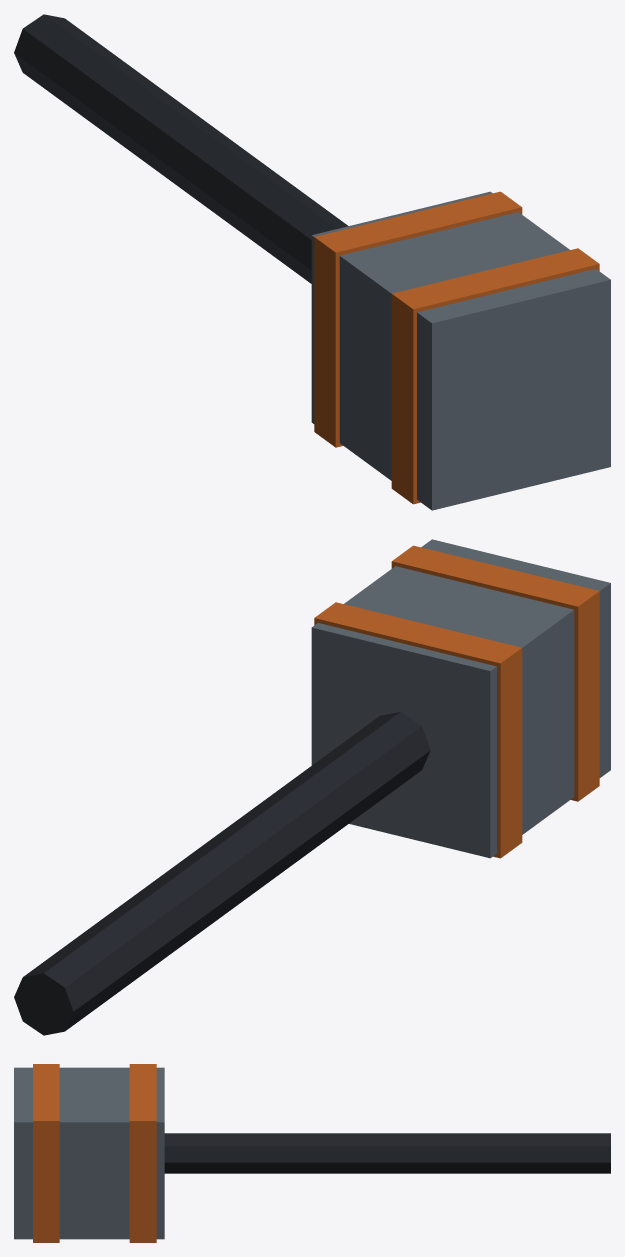
The model's file is vibro-mace.glb.
3 views of the same model, one above another, from view 1: azimuth 30°, elevation 25°; view 2: azimuth 150°, elevation 25°; view 3: azimuth 270°, elevation 25° (orthographic). The views are drawn at different scales.
Parts seen in each view (by area): view 1: vibro-mace; view 2: vibro-mace; view 3: vibro-mace.
Part boxes in pixels (left/top/right/bottom): vibro-mace: left=14, top=14, right=610, bottom=510; vibro-mace: left=14, top=539, right=610, bottom=1035; vibro-mace: left=14, top=1064, right=610, bottom=1242.
Size of the model in its own units: 0.125 by 0.125 by 0.555.
